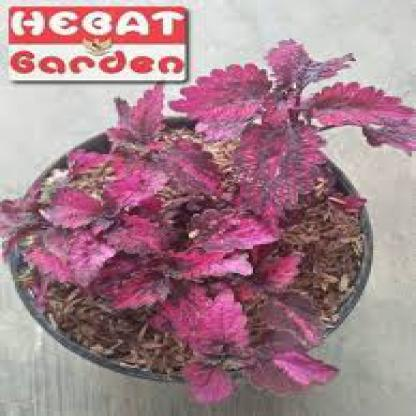Bunga Coleus: (42, 91, 389, 359)
